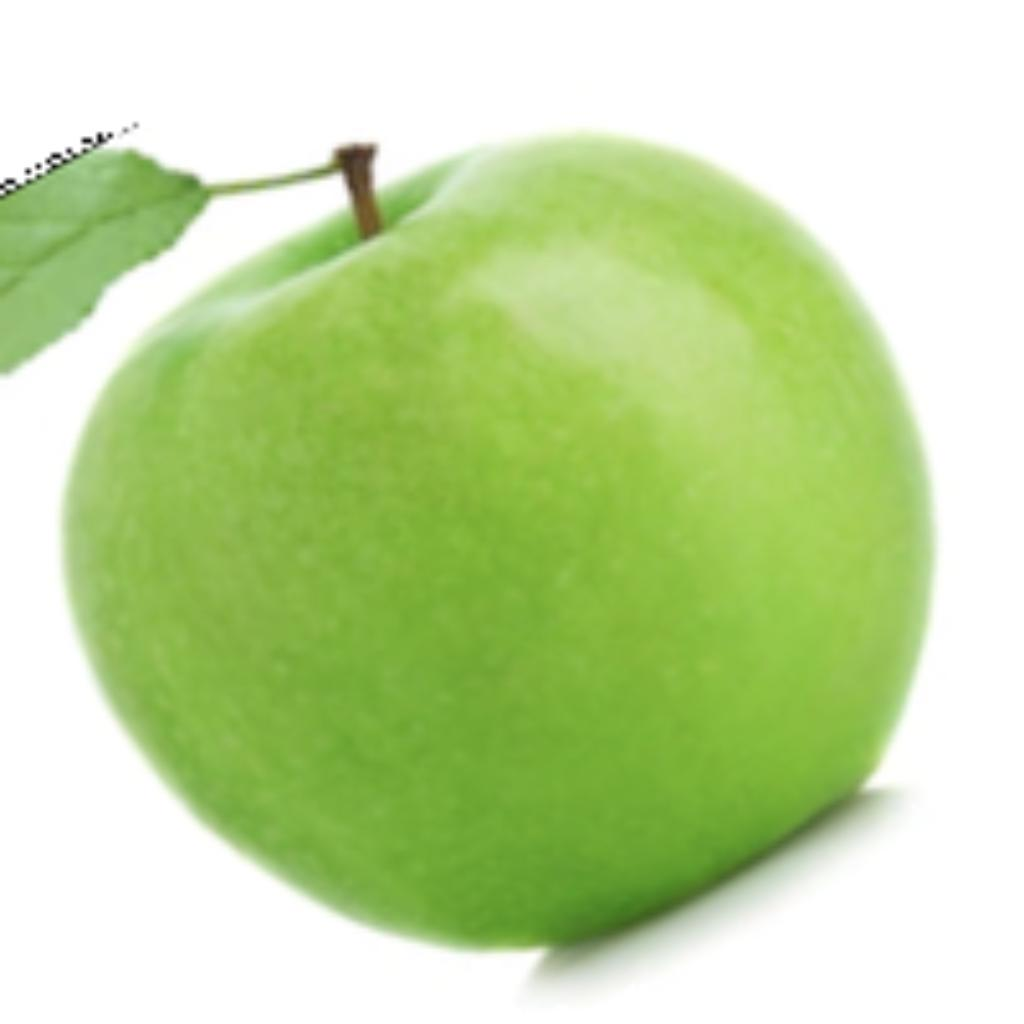apple: (51, 123, 942, 1009)
